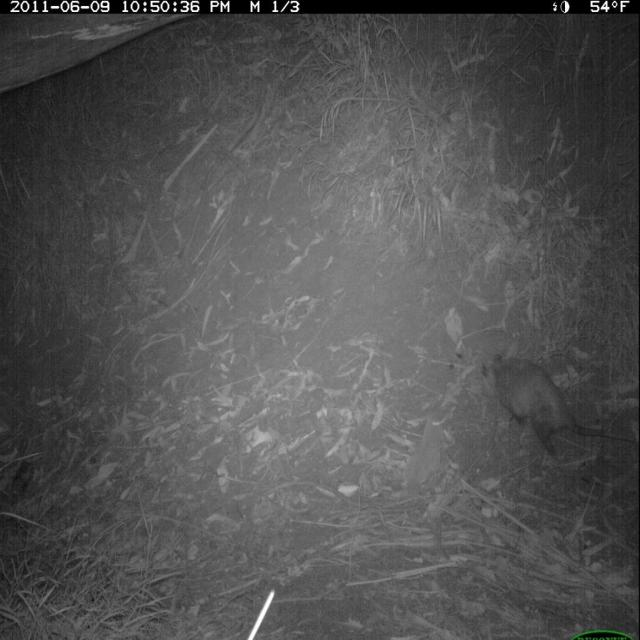opossum: (476, 346, 635, 466)
